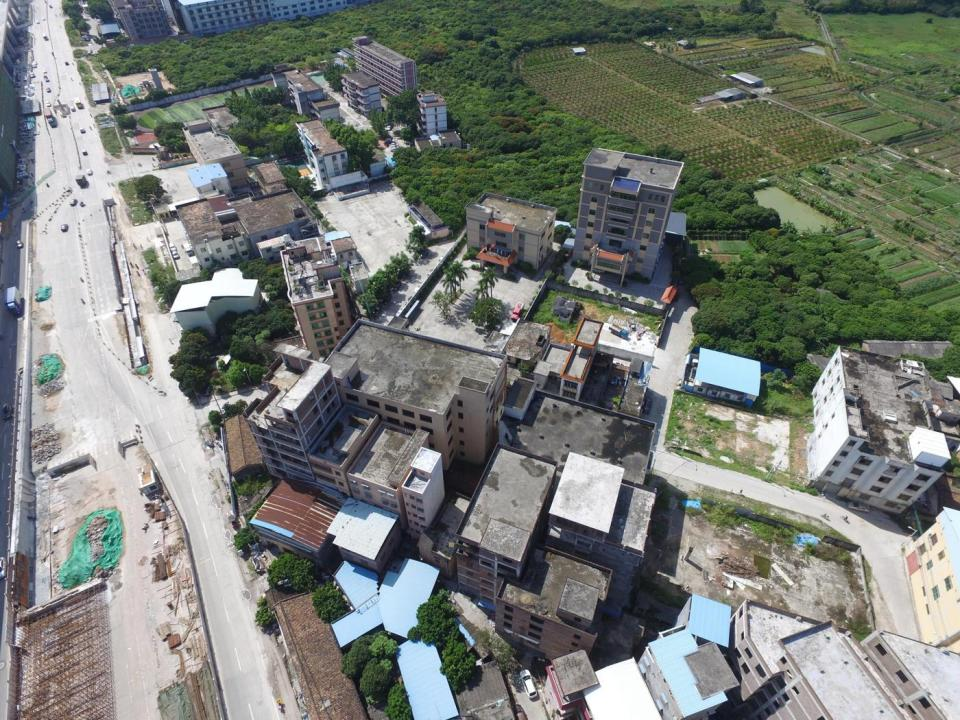bus: (42, 34, 48, 40)
car: (520, 669, 540, 700), (642, 398, 652, 414), (373, 302, 382, 317), (203, 383, 211, 397), (391, 280, 401, 291), (414, 284, 425, 294), (405, 296, 416, 305), (593, 267, 606, 274), (171, 250, 180, 260), (427, 268, 436, 278), (168, 242, 176, 252), (383, 294, 390, 305), (439, 256, 448, 264), (60, 224, 68, 232), (15, 240, 22, 249), (86, 168, 92, 176), (391, 146, 400, 151), (70, 200, 77, 206), (45, 101, 51, 107), (385, 138, 394, 142), (389, 143, 400, 146), (389, 145, 400, 148), (126, 43, 134, 47), (386, 125, 391, 131), (46, 87, 51, 92), (42, 68, 46, 74), (41, 16, 45, 21), (64, 61, 69, 65), (32, 63, 36, 68), (36, 20, 40, 23)
truck: (4, 288, 21, 316), (511, 301, 524, 322), (610, 323, 628, 338), (43, 108, 56, 128), (183, 243, 192, 256), (74, 98, 82, 108), (43, 74, 49, 82)
van: (514, 704, 530, 720), (421, 248, 429, 259), (70, 106, 76, 112), (82, 150, 87, 155), (80, 128, 84, 133)
